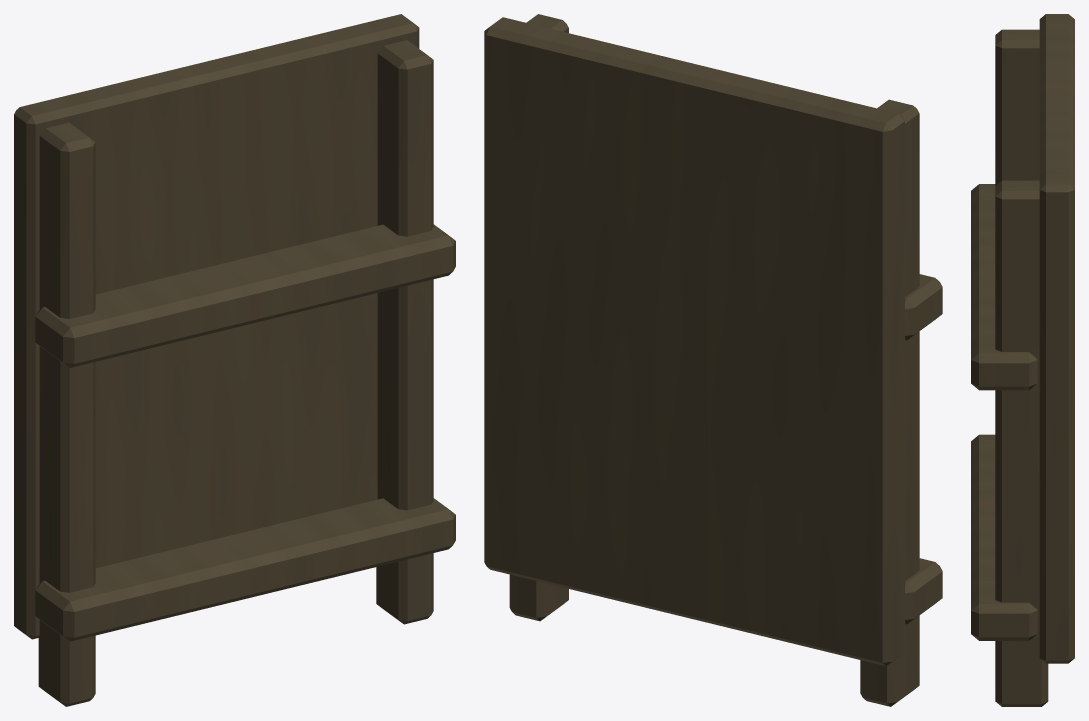
The model's file is WarrensC_PWC19_ToolRack_Mars_SM.fbx.
3 views of the same model, side by side, from view 1: azimuth 30°, elevation 25°; view 2: azimuth 150°, elevation 25°; view 3: azimuth 270°, elevation 25° (orthographic). The views are drawn at different scales.
Parts seen in each view (by area): view 1: WarrensC_PWC19_ToolRack_Mars_SM.001; view 2: WarrensC_PWC19_ToolRack_Mars_SM.001; view 3: WarrensC_PWC19_ToolRack_Mars_SM.001.
Part boxes in pixels (x1,y1,x2,y2): WarrensC_PWC19_ToolRack_Mars_SM.001: [14, 14, 455, 706]; WarrensC_PWC19_ToolRack_Mars_SM.001: [484, 14, 942, 706]; WarrensC_PWC19_ToolRack_Mars_SM.001: [971, 14, 1074, 706].
Size of the model in its own units: 100 by 25 by 140.
